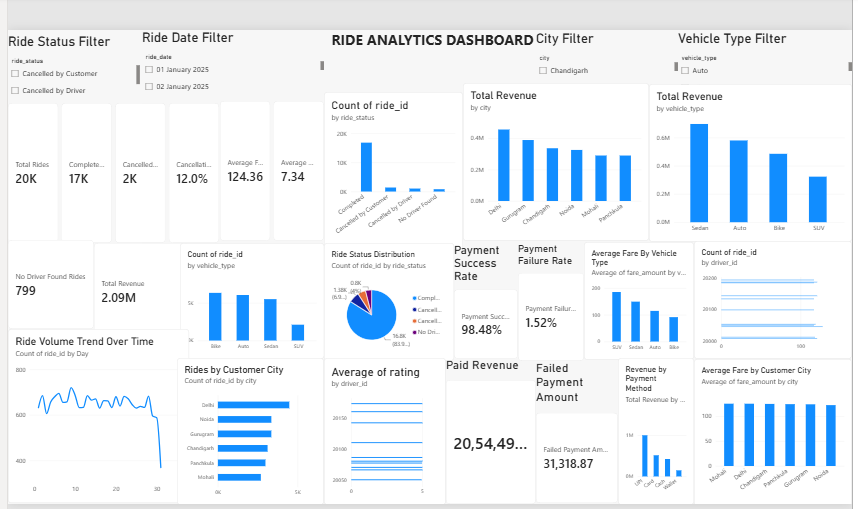

Layout of this report page (visuals, bound fields, positions):
{"tool":"powerbi","page":{"name":"Page 1","canvas":[1920,1080],"ordinal":0},"visuals":[{"type":"cardVisual","fields":{"Data":["rides.Total Rides","rides.Completed Rides","rides.Cancelled Rides","rides.Cancellation Rate"]},"box":[0,166.1,482.3,318.5],"z":0},{"type":"cardVisual","fields":{"Data":["payments.Total Revenue"]},"box":[195.6,484.5,216.1,222.9],"z":1000},{"type":"cardVisual","fields":{"Data":["rides.Average Fare","rides.Average Distance"]},"box":[482.3,161.5,236.6,318.5],"z":2000},{"type":"cardVisual","fields":{"Data":["rides.No Driver Found Rides"]},"box":[0,477.7,195.6,202.5],"z":3000},{"type":"clusteredColumnChart","fields":{"Category":["rides.ride_status"],"Y":["CountNonNull(rides.ride_id)"]},"box":[718.9,120.6,316.2,359.4],"z":4000},{"type":"clusteredColumnChart","fields":{"Category":["locations.city"],"Y":["payments.Total Revenue"]},"box":[1035.1,120.6,423.1,359.4],"z":5000},{"type":"clusteredColumnChart","fields":{"Category":["vehicles_cleaned.vehicle_type"],"Y":["CountNonNull(rides.ride_id)"]},"box":[391.3,484.5,327.6,263.9],"z":6000},{"type":"clusteredColumnChart","fields":{"Category":["vehicles_cleaned.vehicle_type"],"Y":["payments.Total Revenue"]},"box":[1458.2,120.6,461.8,359.4],"z":7000},{"type":"lineChart","title":"Ride Volume Trend Over Time","fields":{"Category":["rides.ride_date.Variation.Date Hierarchy.Year","rides.ride_date.Variation.Date Hierarchy.Quarter","rides.ride_date.Variation.Date Hierarchy.Month","rides.ride_date.Variation.Date Hierarchy.Day"],"Y":["CountNonNull(rides.ride_id)"]},"box":[0,680.2,411.8,395.8],"z":9001},{"type":"barChart","title":"Rides by Customer City","fields":{"Category":["customers.city"],"Y":["CountNonNull(rides.ride_id)"]},"box":[384.5,746.2,334.4,334.4],"z":9002},{"type":"pieChart","title":"Ride Status Distribution","fields":{"Category":["rides.ride_status"],"Y":["CountNonNull(rides.ride_id)"]},"box":[739.3,477.7,295.7,268.4],"z":9003},{"type":"textbox","box":[580.1,0,771.2,75.1],"z":9007},{"type":"barChart","fields":{"Category":["drivers.driver_id"],"Y":["CountNonNull(rides.ride_id)"]},"box":[1458.2,480,461.8,268.4],"z":9008},{"type":"barChart","fields":{"Category":["drivers.driver_id"],"Y":["Avg(drivers.rating)"]},"box":[718.9,746.2,277,334],"z":9009},{"type":"clusteredColumnChart","title":"Average Fare By Vehicle Type","fields":{"Category":["vehicles_cleaned.vehicle_type"],"Y":["Avg(rides.fare_amount)"]},"box":[1035.1,480,423.1,268.4],"z":9010},{"type":"clusteredColumnChart","title":"Revenue by Payment Method","fields":{"Category":["payments.payment_method"],"Y":["payments.Total Revenue"]},"box":[1035.1,748.4,423,334],"z":9011},{"type":"clusteredColumnChart","title":"Average Fare by Customer City","fields":{"Category":["customers.city"],"Y":["Avg(rides.fare_amount)"]},"box":[1458.2,748.4,462,334],"z":9012},{"type":"slicer","title":"Ride Date Filter","fields":{"Values":["rides.ride_date"]},"box":[304.8,0,414,141],"z":9013},{"type":"slicer","title":"City Filter","fields":{"Values":["locations.city"]},"box":[1201.1,2.3,323,118.3],"z":9014},{"type":"slicer","title":"Vehicle Type Filter","fields":{"Values":["vehicles_cleaned.vehicle_type"]},"box":[1524.2,2.3,395.8,120.6],"z":9015},{"type":"slicer","title":"Ride Status Filter","fields":{"Values":["rides.ride_status"]},"box":[0,9.1,300.3,152.4],"z":9016}]}

Visuals, with their boxes on the page's 1920x1080 design canvas (x1, y1, x2, y2). These are canvas units, not pixel positions in the 858x509 screenshot, which may show the page scaled, cropped or inside an application window:
cardVisual - rides.Total Rides x rides.Completed Rides: <region>0, 166, 482, 485</region>
cardVisual - payments.Total Revenue: <region>196, 484, 412, 707</region>
cardVisual - rides.Average Fare x rides.Average Distance: <region>482, 162, 719, 480</region>
cardVisual - rides.No Driver Found Rides: <region>0, 478, 196, 680</region>
clusteredColumnChart - rides.ride_status x CountNonNull(rides.ride_id): <region>719, 121, 1035, 480</region>
clusteredColumnChart - locations.city x payments.Total Revenue: <region>1035, 121, 1458, 480</region>
clusteredColumnChart - vehicles_cleaned.vehicle_type x CountNonNull(rides.ride_id): <region>391, 484, 719, 748</region>
clusteredColumnChart - vehicles_cleaned.vehicle_type x payments.Total Revenue: <region>1458, 121, 1920, 480</region>
"Ride Volume Trend Over Time" lineChart: <region>0, 680, 412, 1076</region>
"Rides by Customer City" barChart: <region>384, 746, 719, 1081</region>
"Ride Status Distribution" pieChart: <region>739, 478, 1035, 746</region>
textbox: <region>580, 0, 1351, 75</region>
barChart - drivers.driver_id x CountNonNull(rides.ride_id): <region>1458, 480, 1920, 748</region>
barChart - drivers.driver_id x Avg(drivers.rating): <region>719, 746, 996, 1080</region>
"Average Fare By Vehicle Type" clusteredColumnChart: <region>1035, 480, 1458, 748</region>
"Revenue by Payment Method" clusteredColumnChart: <region>1035, 748, 1458, 1082</region>
"Average Fare by Customer City" clusteredColumnChart: <region>1458, 748, 1920, 1082</region>
"Ride Date Filter" slicer: <region>305, 0, 719, 141</region>
"City Filter" slicer: <region>1201, 2, 1524, 121</region>
"Vehicle Type Filter" slicer: <region>1524, 2, 1920, 123</region>
"Ride Status Filter" slicer: <region>0, 9, 300, 162</region>
